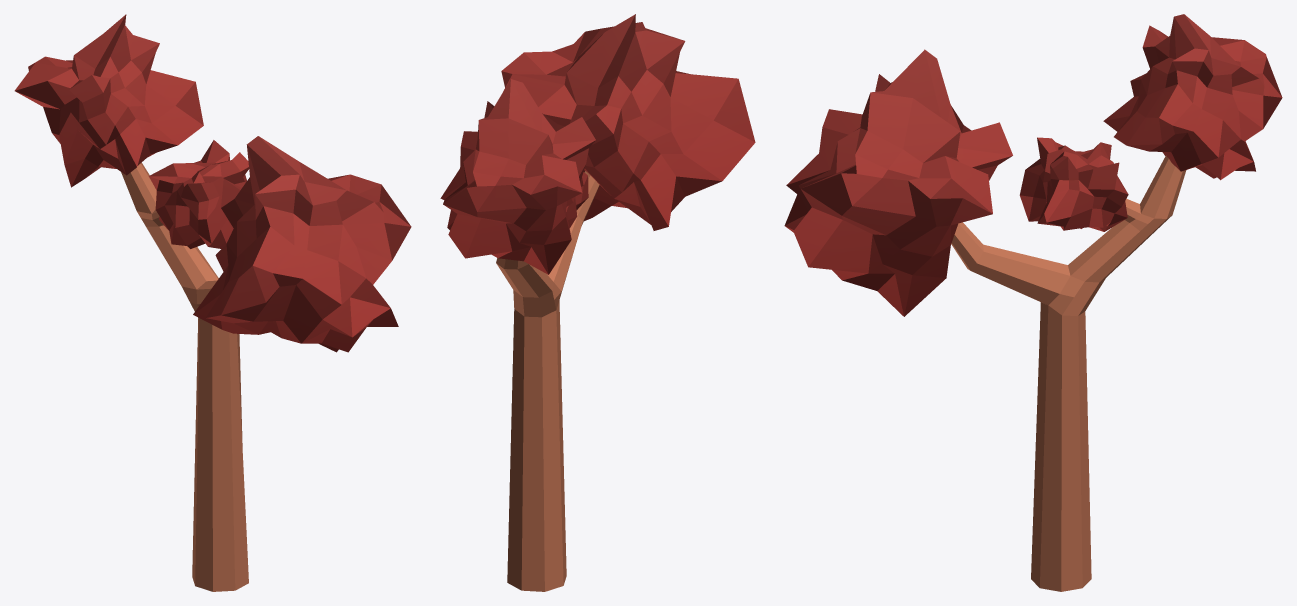
The model's file is Tree_03_gradient_red_vc.fbx.
3 views of the same model, side by side, from view 1: azimuth 30°, elevation 25°; view 2: azimuth 150°, elevation 25°; view 3: azimuth 270°, elevation 25° (orthographic). The views are drawn at different scales.
Parts seen in each view (by area): view 1: Tree_03_gradient_red_vc; view 2: Tree_03_gradient_red_vc; view 3: Tree_03_gradient_red_vc.
Part boxes in pixels (x1=…): Tree_03_gradient_red_vc: x1=14, y1=14, x2=411, y2=591; Tree_03_gradient_red_vc: x1=440, y1=14, x2=755, y2=591; Tree_03_gradient_red_vc: x1=784, y1=14, x2=1282, y2=591.
Size of the model in its own units: 77.81 by 178 by 146.
